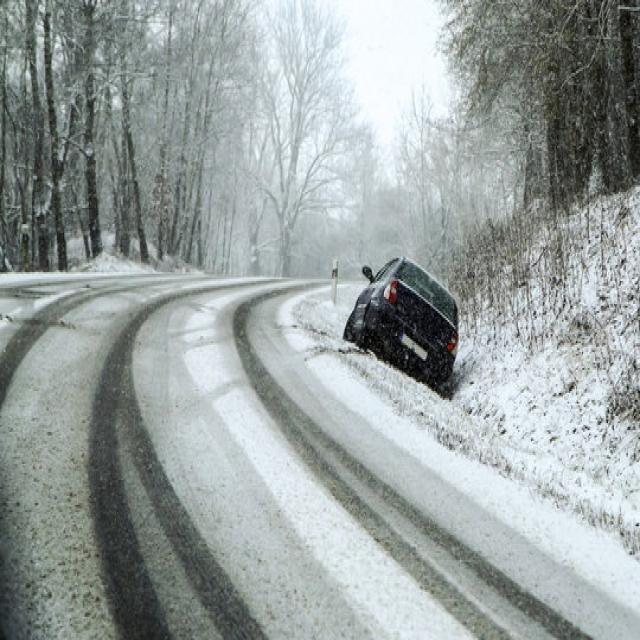Accident: (338, 254, 462, 398)
